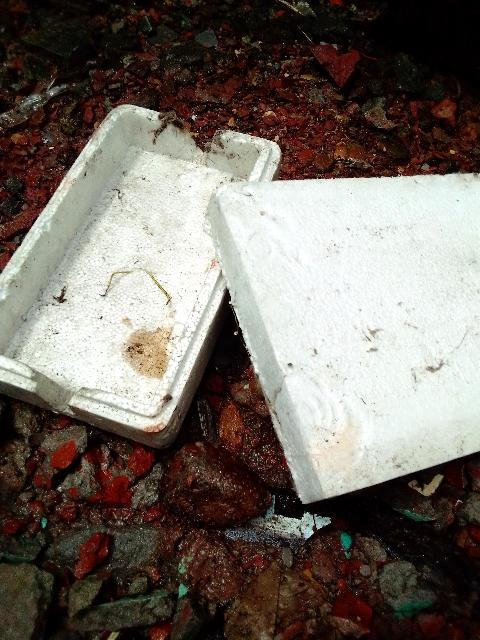cocksheet: (1, 87, 480, 512)
